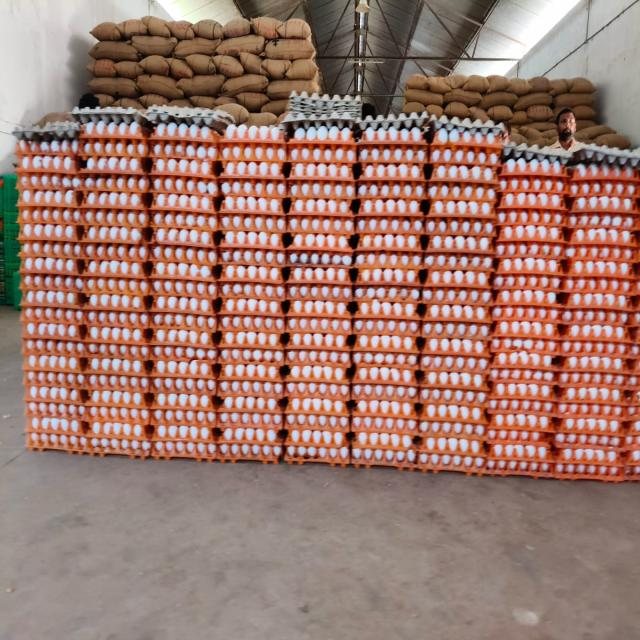egg_tray: (488, 158, 566, 445), (486, 193, 564, 476), (19, 184, 86, 451), (18, 180, 84, 450), (219, 127, 286, 370), (83, 222, 150, 454), (81, 234, 148, 455), (151, 245, 216, 459), (352, 265, 420, 467), (285, 267, 352, 464), (352, 284, 420, 468), (354, 124, 427, 282), (354, 126, 426, 285), (219, 126, 286, 287), (562, 228, 638, 357), (85, 309, 151, 454), (555, 355, 632, 479), (150, 212, 218, 347), (285, 267, 352, 402), (16, 141, 82, 274), (217, 329, 283, 461), (287, 141, 356, 267), (287, 125, 356, 248), (493, 190, 566, 306), (352, 297, 421, 418), (420, 316, 490, 435), (81, 122, 149, 244), (150, 123, 219, 243), (150, 122, 218, 243), (556, 354, 636, 450), (150, 296, 217, 410), (554, 356, 637, 448), (489, 321, 558, 430), (285, 316, 350, 431), (488, 336, 558, 441), (419, 367, 488, 473), (563, 227, 637, 324), (496, 158, 566, 260), (150, 352, 216, 460), (23, 338, 86, 450), (23, 340, 86, 451), (354, 200, 423, 301), (217, 358, 283, 462), (420, 338, 490, 436), (492, 257, 563, 353), (218, 265, 285, 366), (486, 378, 555, 476), (150, 337, 216, 439), (352, 336, 418, 437), (217, 362, 283, 462), (83, 209, 149, 308), (18, 207, 83, 307), (16, 139, 78, 242), (19, 210, 84, 308), (84, 310, 150, 404), (148, 243, 218, 330), (353, 280, 421, 369), (422, 270, 492, 356), (354, 199, 423, 285), (285, 282, 352, 370), (219, 196, 286, 283), (427, 167, 496, 251), (82, 226, 150, 310), (149, 345, 217, 429), (285, 285, 352, 370), (148, 329, 217, 410), (486, 366, 557, 443), (151, 262, 218, 343), (74, 170, 150, 241), (18, 189, 82, 272), (564, 227, 638, 298), (18, 191, 82, 273), (422, 289, 491, 365), (421, 250, 494, 320), (422, 285, 492, 358), (491, 337, 556, 413), (419, 369, 489, 439), (219, 126, 286, 198), (81, 242, 150, 311), (286, 197, 354, 267), (79, 123, 150, 190), (352, 365, 418, 437), (354, 217, 423, 285), (83, 306, 150, 376), (82, 242, 150, 310), (496, 193, 566, 259), (352, 365, 418, 434), (150, 344, 217, 411), (219, 125, 286, 192), (287, 233, 353, 301), (486, 380, 557, 443), (565, 214, 637, 275), (558, 363, 631, 423), (150, 393, 216, 459), (287, 141, 356, 199), (425, 201, 496, 257), (425, 200, 497, 254), (281, 92, 361, 140), (492, 257, 564, 310), (150, 353, 216, 410), (218, 263, 285, 319), (149, 123, 218, 177), (427, 164, 499, 215), (566, 196, 638, 247), (79, 121, 148, 174), (286, 91, 362, 139), (490, 289, 561, 340), (150, 159, 219, 211), (18, 191, 83, 246), (20, 300, 85, 355), (80, 193, 150, 244), (428, 117, 502, 165), (150, 194, 217, 247), (287, 197, 354, 250), (287, 125, 357, 175), (218, 262, 285, 314), (496, 209, 564, 260), (354, 269, 421, 320), (15, 136, 79, 189), (354, 234, 423, 283), (219, 313, 284, 365), (217, 412, 282, 463), (425, 209, 496, 255), (354, 252, 421, 300), (499, 149, 568, 195), (429, 123, 502, 166), (218, 196, 286, 241), (499, 154, 569, 197), (567, 163, 640, 202), (559, 355, 638, 391), (427, 194, 496, 235), (84, 415, 151, 457), (500, 151, 567, 193), (219, 124, 286, 166), (560, 322, 638, 358), (354, 326, 419, 369), (218, 227, 286, 268), (286, 266, 352, 308), (358, 127, 427, 167), (357, 161, 426, 201), (284, 393, 350, 434), (84, 417, 150, 458), (79, 121, 150, 159), (357, 164, 426, 203), (355, 201, 424, 240), (73, 170, 151, 204), (353, 298, 421, 337), (352, 330, 420, 369), (351, 429, 417, 469), (499, 164, 568, 202), (417, 436, 486, 474), (554, 445, 626, 481), (287, 162, 357, 199), (427, 179, 498, 215), (422, 302, 491, 339), (284, 428, 350, 466), (484, 442, 555, 477), (150, 424, 217, 461), (284, 365, 351, 402), (568, 164, 640, 198), (219, 162, 287, 198), (80, 141, 148, 176), (217, 363, 285, 398), (21, 336, 87, 372), (26, 414, 86, 453), (287, 266, 352, 302), (486, 410, 554, 444), (286, 233, 353, 266), (355, 112, 428, 141), (285, 365, 349, 398), (220, 196, 284, 227), (357, 191, 422, 221), (624, 359, 640, 479), (354, 277, 422, 305), (429, 163, 498, 189), (356, 198, 423, 223), (72, 107, 160, 126), (624, 390, 640, 479), (574, 145, 638, 167), (625, 387, 640, 479), (237, 289, 281, 315), (510, 158, 540, 188), (83, 207, 118, 230), (238, 328, 279, 346), (625, 449, 640, 481), (128, 202, 144, 232), (220, 377, 244, 393), (122, 177, 146, 193), (568, 251, 609, 259), (359, 234, 378, 249), (85, 189, 116, 198), (223, 443, 246, 455), (358, 251, 379, 264), (58, 309, 81, 319), (362, 217, 384, 227), (154, 429, 172, 441), (270, 303, 283, 319), (462, 226, 483, 235), (221, 321, 240, 329), (295, 304, 310, 314), (434, 243, 455, 250), (124, 396, 140, 405), (517, 158, 528, 171), (293, 238, 307, 248), (29, 260, 43, 270), (228, 274, 240, 285), (511, 461, 524, 471), (87, 177, 100, 187), (490, 461, 504, 470), (369, 335, 386, 342), (512, 173, 528, 180), (152, 377, 168, 384), (130, 207, 144, 215), (559, 422, 571, 431), (32, 143, 41, 155), (633, 359, 640, 374), (253, 371, 262, 382), (568, 392, 582, 399), (545, 313, 557, 321), (68, 210, 78, 219), (228, 275, 246, 280), (190, 339, 205, 345), (223, 330, 231, 340), (155, 446, 168, 452), (496, 310, 503, 321), (136, 212, 148, 218), (90, 380, 102, 386), (198, 332, 210, 338), (25, 283, 35, 290), (469, 191, 476, 201), (601, 427, 610, 434), (130, 185, 139, 192), (204, 238, 212, 245), (104, 211, 115, 216), (178, 338, 189, 343), (277, 314, 283, 323), (112, 143, 118, 152), (23, 307, 32, 313), (61, 224, 74, 228), (19, 144, 22, 161), (572, 230, 582, 235), (462, 409, 469, 416), (92, 221, 99, 228), (620, 268, 628, 274), (407, 295, 419, 299), (123, 235, 130, 241), (539, 173, 546, 179), (390, 218, 397, 224), (556, 181, 560, 191), (177, 281, 189, 284), (428, 356, 437, 360), (405, 218, 411, 224), (506, 370, 513, 375), (479, 316, 486, 321), (208, 283, 215, 288), (226, 349, 233, 354), (558, 165, 563, 172), (103, 221, 108, 228), (264, 380, 271, 385), (227, 400, 232, 407), (114, 202, 121, 207), (557, 179, 562, 185), (231, 339, 236, 345), (205, 340, 211, 345), (21, 173, 27, 178), (365, 202, 370, 208), (363, 253, 367, 260), (608, 358, 622, 360), (86, 314, 90, 321), (511, 149, 518, 153), (59, 334, 68, 337), (151, 313, 154, 322), (454, 290, 459, 295), (558, 244, 562, 250), (110, 398, 118, 401), (265, 323, 271, 327), (598, 358, 604, 362), (92, 197, 96, 203), (520, 150, 526, 154), (21, 174, 27, 178), (375, 201, 383, 204), (192, 338, 198, 342), (106, 185, 114, 188), (161, 434, 167, 438), (607, 442, 614, 445), (564, 359, 567, 366), (192, 378, 199, 381), (512, 149, 519, 152), (499, 276, 502, 283), (559, 166, 564, 170), (87, 209, 92, 213), (480, 257, 490, 259), (38, 156, 42, 161), (362, 324, 366, 329), (522, 150, 527, 154), (574, 298, 578, 303), (410, 338, 414, 343), (346, 96, 351, 100), (334, 96, 339, 100), (507, 193, 513, 196), (532, 185, 538, 188), (507, 463, 513, 466), (60, 334, 66, 337), (384, 406, 387, 412), (168, 188, 174, 191), (419, 220, 422, 226), (220, 409, 224, 413), (27, 197, 31, 201), (68, 149, 72, 153), (513, 370, 518, 373), (245, 315, 250, 318), (535, 165, 538, 170), (484, 203, 489, 206), (121, 212, 126, 215), (563, 453, 570, 455), (407, 234, 414, 236), (388, 210, 394, 212), (69, 254, 73, 257), (456, 230, 462, 232), (474, 188, 478, 191), (530, 161, 536, 163), (514, 166, 517, 170), (264, 309, 267, 313), (482, 293, 485, 297), (510, 371, 514, 374), (123, 189, 127, 192), (204, 381, 208, 384), (248, 299, 252, 302), (586, 342, 590, 345), (616, 327, 622, 329), (376, 226, 380, 229), (112, 299, 115, 303), (608, 336, 612, 339), (490, 234, 494, 237), (560, 189, 564, 192), (429, 362, 433, 365), (199, 435, 203, 438), (54, 123, 59, 125), (311, 285, 316, 287), (194, 283, 204, 284), (503, 166, 505, 171), (484, 207, 486, 212), (546, 165, 548, 170), (92, 227, 97, 229), (298, 248, 303, 250), (474, 167, 479, 169), (416, 207, 418, 212), (525, 370, 528, 373), (502, 370, 505, 373), (512, 184, 515, 187), (356, 356, 359, 359), (183, 378, 186, 381), (256, 300, 265, 301), (506, 314, 509, 317), (22, 274, 25, 277), (52, 186, 55, 189), (289, 405, 292, 408), (74, 132, 77, 135), (471, 175, 474, 178), (407, 230, 410, 233), (402, 201, 405, 204), (423, 363, 426, 366), (107, 204, 110, 207), (484, 207, 486, 211), (244, 325, 248, 327), (281, 179, 283, 183), (120, 212, 124, 214), (348, 131, 350, 135), (19, 157, 21, 161), (379, 243, 383, 245), (454, 427, 457, 429), (98, 197, 101, 199), (110, 193, 116, 194), (168, 196, 170, 199), (527, 465, 529, 468), (234, 300, 240, 301), (350, 174, 352, 177), (119, 227, 125, 228), (423, 363, 426, 365), (359, 228, 361, 231), (92, 302, 94, 305), (51, 185, 53, 188), (54, 185, 56, 188), (66, 156, 69, 158), (74, 134, 76, 137), (359, 273, 361, 276), (406, 337, 409, 339), (399, 222, 401, 225), (361, 206, 362, 212), (425, 368, 428, 370), (96, 236, 98, 239), (381, 229, 386, 230), (263, 235, 264, 240), (468, 203, 473, 204), (188, 455, 193, 456), (298, 260, 300, 262), (337, 246, 339, 248), (86, 143, 88, 145), (534, 437, 538, 438), (506, 186, 508, 188), (600, 364, 602, 366), (128, 184, 130, 186), (120, 211, 124, 212), (252, 188, 254, 190), (400, 175, 402, 177), (444, 271, 448, 272), (240, 455, 242, 457), (434, 171, 436, 173), (426, 265, 428, 267), (580, 301, 582, 303), (382, 253, 384, 255), (114, 185, 116, 187), (492, 370, 493, 373), (607, 395, 608, 398), (618, 345, 621, 346), (97, 222, 100, 223), (101, 302, 104, 303), (412, 426, 413, 429), (436, 203, 439, 204), (391, 236, 394, 237), (162, 114, 164, 115), (317, 287, 319, 288), (312, 243, 314, 244), (324, 136, 326, 137), (538, 163, 540, 164), (140, 247, 142, 248), (542, 194, 544, 195), (611, 370, 612, 372), (589, 358, 591, 359), (573, 325, 575, 326), (169, 345, 170, 347), (290, 141, 291, 143), (600, 221, 601, 223), (44, 185, 46, 186), (67, 155, 68, 157), (558, 151, 559, 153), (361, 426, 363, 427), (584, 305, 586, 306), (434, 363, 436, 364), (32, 194, 34, 195), (434, 203, 436, 204), (365, 212, 366, 214), (366, 206, 368, 207), (156, 331, 157, 333), (120, 227, 122, 228), (154, 434, 156, 435), (457, 431, 458, 432), (447, 427, 448, 428), (487, 174, 488, 175), (260, 356, 261, 357), (258, 349, 259, 350), (358, 191, 359, 192), (563, 367, 564, 368), (98, 202, 99, 203), (36, 296, 37, 297), (171, 353, 172, 354), (347, 398, 348, 399), (98, 305, 99, 306), (40, 158, 41, 159), (403, 229, 404, 230), (46, 125, 50, 125), (588, 207, 588, 208), (552, 387, 552, 388), (292, 262, 292, 263), (298, 130, 299, 130), (328, 125, 328, 125), (165, 281, 169, 281), (219, 414, 219, 414), (52, 336, 52, 337), (414, 292, 414, 292), (503, 178, 503, 179), (421, 257, 421, 259), (449, 412, 450, 412), (96, 143, 98, 143), (550, 186, 550, 188), (503, 178, 503, 178), (612, 396, 612, 397), (154, 332, 155, 332), (418, 223, 419, 223), (247, 207, 254, 207), (187, 363, 190, 363), (272, 301, 274, 301), (240, 299, 243, 299), (252, 450, 252, 450), (263, 398, 263, 399), (298, 130, 300, 130), (294, 261, 294, 261), (50, 176, 50, 177), (21, 172, 21, 172), (438, 167, 443, 167), (377, 292, 379, 292), (296, 405, 296, 406), (385, 341, 385, 342), (324, 219, 326, 219), (512, 287, 512, 287), (426, 347, 426, 348), (301, 394, 301, 395), (462, 177, 463, 177), (21, 254, 21, 255), (394, 207, 394, 208), (449, 201, 451, 201), (200, 452, 201, 452), (181, 330, 184, 330), (125, 223, 126, 223), (129, 203, 130, 203)
